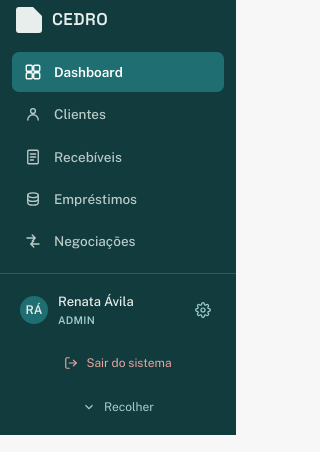
Sidebar › shows Gerenciar usuários in the popover for an ADMIN
Click the button named "Configurações" at (203, 310), box [190,297,216,323]
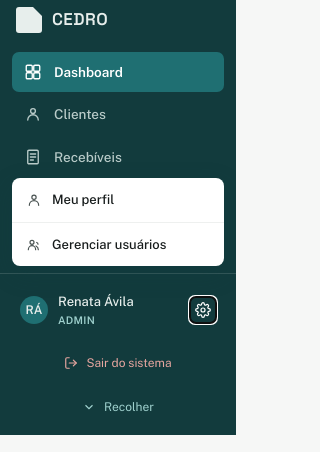
Expected: the link "Gerenciar usuários" is shown, [26,236,166,252]
